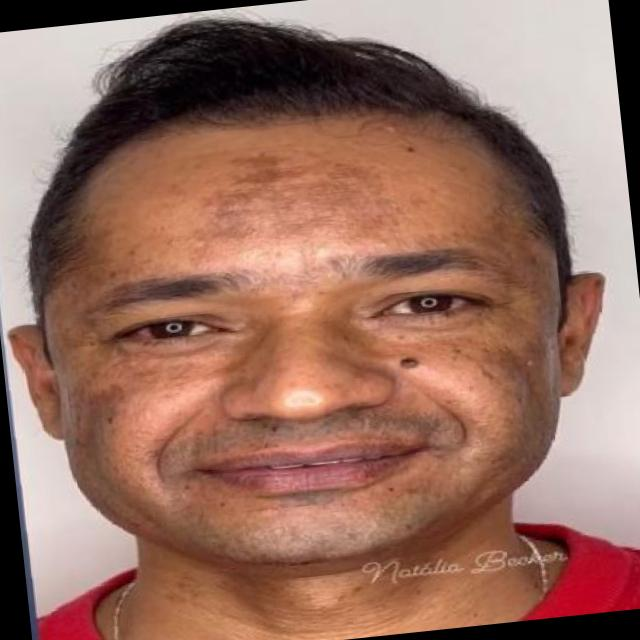melasma: (117, 128, 546, 268), (65, 334, 250, 515), (393, 322, 569, 455)
